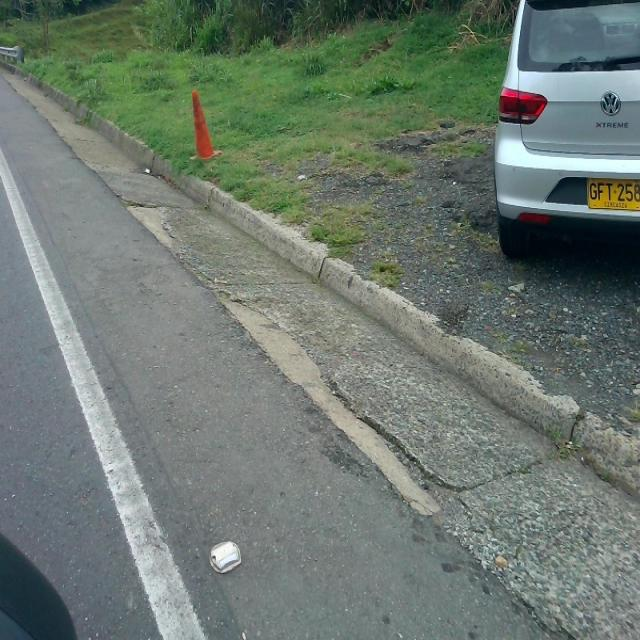DITCH: (2, 61, 637, 638)
